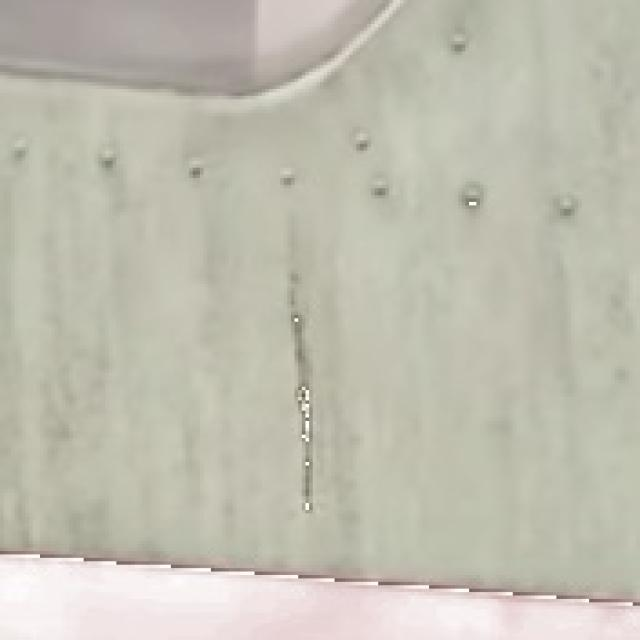crack: (248, 264, 325, 494)
